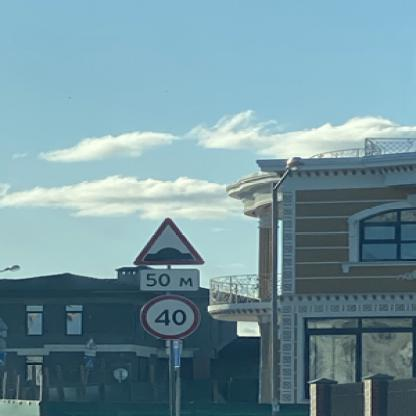crosswalk: (82, 356, 94, 369)
speedlimit: (138, 295, 198, 336)
